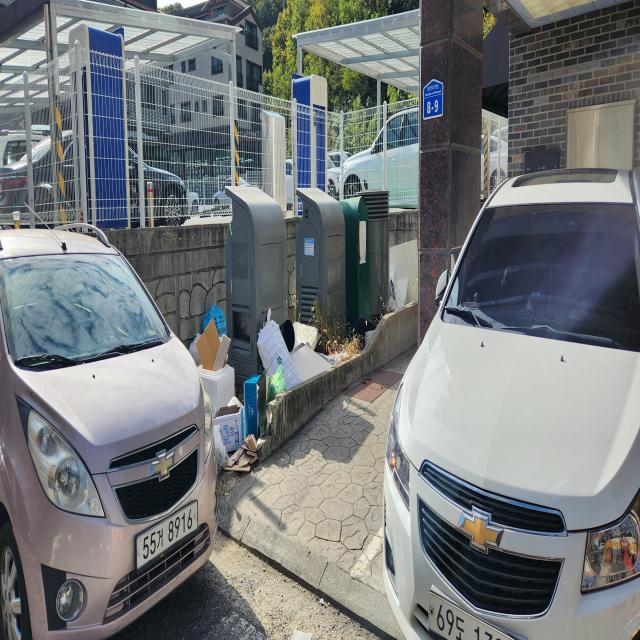CleanNet: (219, 177, 288, 408), (297, 179, 348, 348)
General Waste: (384, 228, 424, 311), (189, 365, 237, 416), (239, 372, 266, 462), (210, 412, 252, 454), (202, 298, 228, 350), (267, 364, 286, 398)
PP bag: (254, 306, 302, 397)
